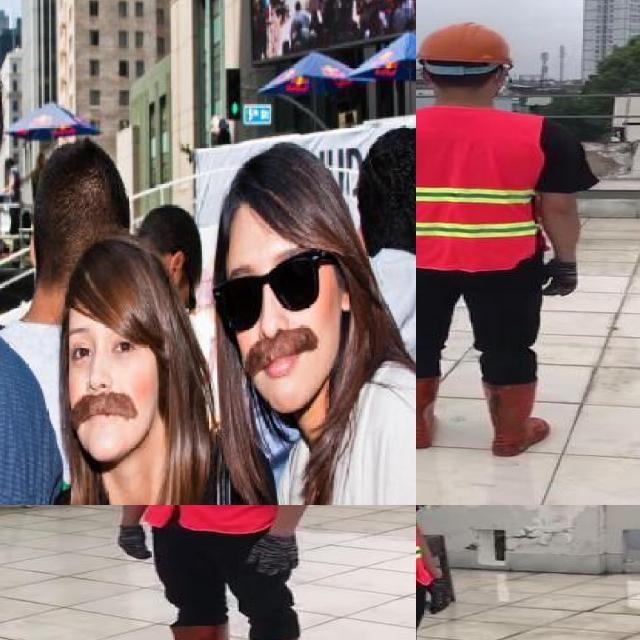boots: (478, 380, 556, 460), (416, 377, 440, 450), (143, 622, 232, 640)
face_nomask: (224, 246, 334, 382), (63, 325, 159, 437)
glasses: (208, 250, 330, 335)
hand_glove: (244, 536, 306, 577), (537, 259, 581, 296), (113, 524, 155, 562)
head_helmet: (416, 19, 516, 67)
head_nohelmet: (212, 154, 336, 228), (64, 245, 164, 320), (40, 137, 128, 197), (355, 134, 416, 188)
person: (416, 20, 589, 459), (215, 138, 416, 505), (38, 236, 229, 505), (105, 505, 336, 640), (416, 505, 466, 640)
vest: (416, 105, 542, 271)
